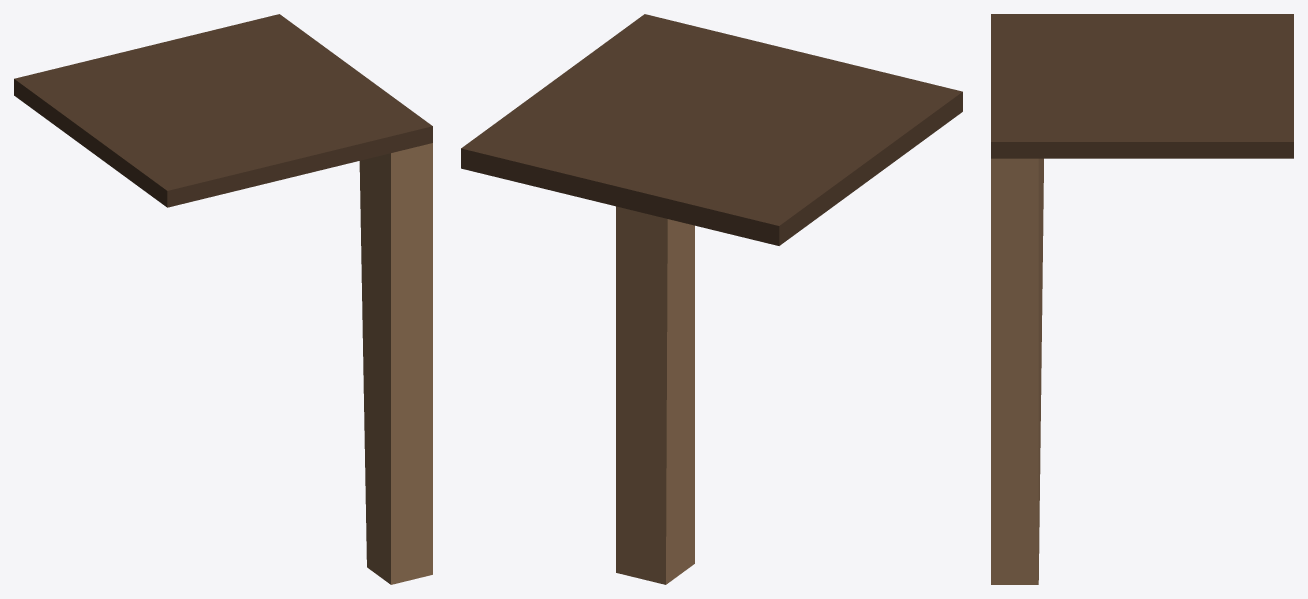
The model's file is Kitchen_Cabinet_6B.fbx.
3 renders of one model, left to right at view 1: azimuth 30°, elevation 25°; view 2: azimuth 150°, elevation 25°; view 3: azimuth 270°, elevation 25°, orthographic. The views are drawn at different scales.
Parts seen in each view (by area): view 1: polySurface2355; view 2: polySurface2355; view 3: polySurface2355.
Boxes of the visible parts, x1=… form: polySurface2355: x1=14, y1=14, x2=432, y2=584; polySurface2355: x1=461, y1=14, x2=962, y2=584; polySurface2355: x1=991, y1=14, x2=1293, y2=584.
Bounding box in the file's own units: 82.71 × 134 × 82.71.
1 material, 1 textured.
